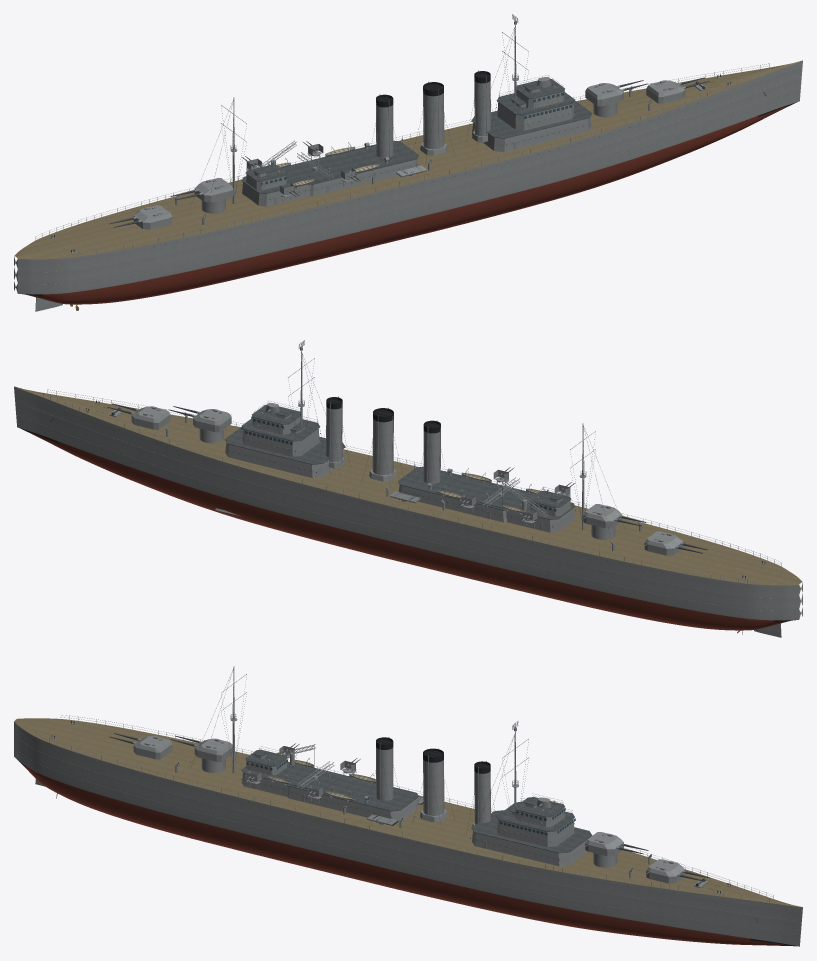
The model's file is demo-norfolk.glb.
3 views of the same model, one above another, from view 1: azimuth 30°, elevation 25°; view 2: azimuth 150°, elevation 25°; view 3: azimuth 330°, elevation 25° (orthographic).
Parts seen in each view (by area): view 1: HMS Norfolk, 1943 exterior interpretation; view 2: HMS Norfolk, 1943 exterior interpretation; view 3: HMS Norfolk, 1943 exterior interpretation.
Boxes of the visible parts, x1,y1,x2,y2 form: HMS Norfolk, 1943 exterior interpretation: [14, 14, 802, 311]; HMS Norfolk, 1943 exterior interpretation: [14, 340, 802, 637]; HMS Norfolk, 1943 exterior interpretation: [14, 666, 802, 946].
Size of the model in its own units: 193 by 42.22 by 23.15.
9 materials, 8 textured.
